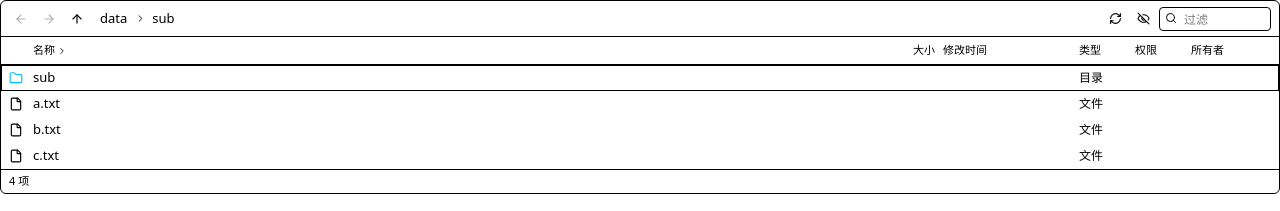
多选和键盘 › Ctrl+点击 / Shift+点击 多选
Click the element showing "a.txt 文件": click(16, 104) x1=1 y1=91 x2=1279 y2=117
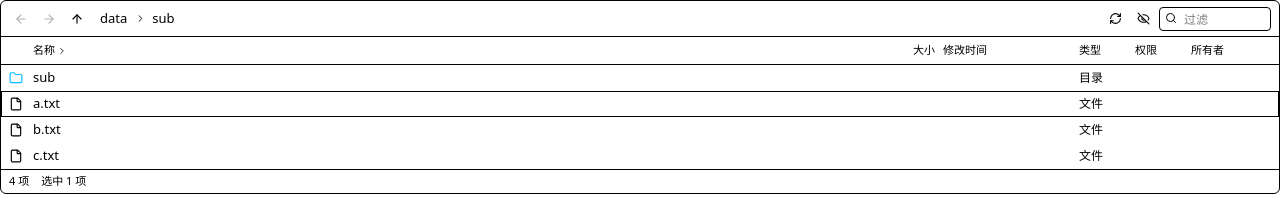
Click the element showing "c.txt 文件": click(16, 156) x1=1 y1=143 x2=1279 y2=169
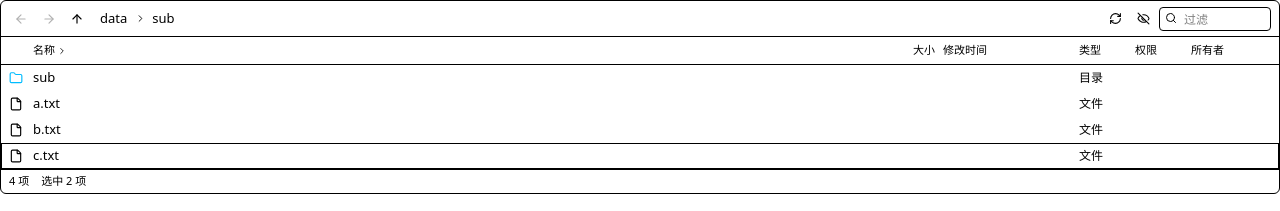
Expected: the text "选中 2 项" is shown, x1=41 y1=173 x2=86 y2=190
Click the element showing "sub 目录": click(16, 78) x1=1 y1=65 x2=1279 y2=91
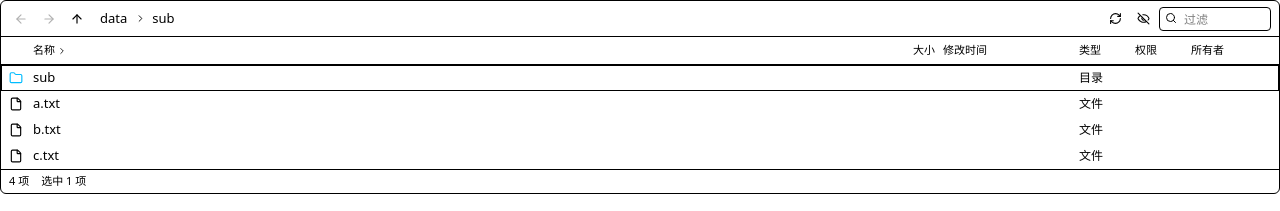
Click the element showing "b.txt 文件": click(16, 130) x1=1 y1=117 x2=1279 y2=143
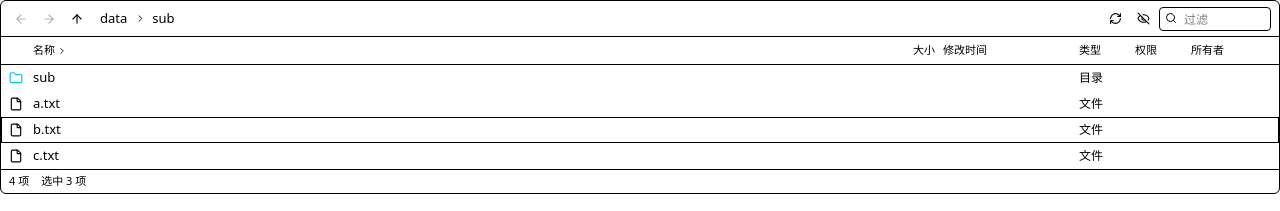
Expected: the text "选中 3 项" is shown, x1=41 y1=173 x2=86 y2=190
